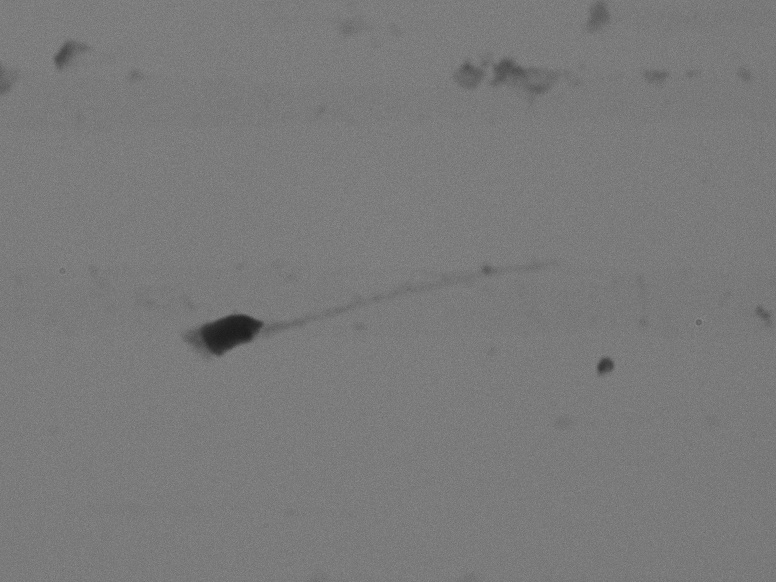Abnormal: (149, 248, 662, 400)
